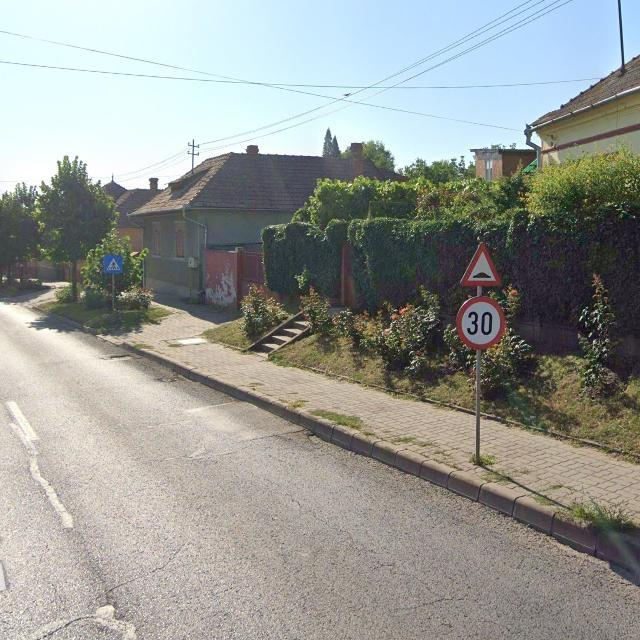forb_speed_over_30: (456, 296, 506, 349)
info_crosswalk: (103, 254, 123, 273)
